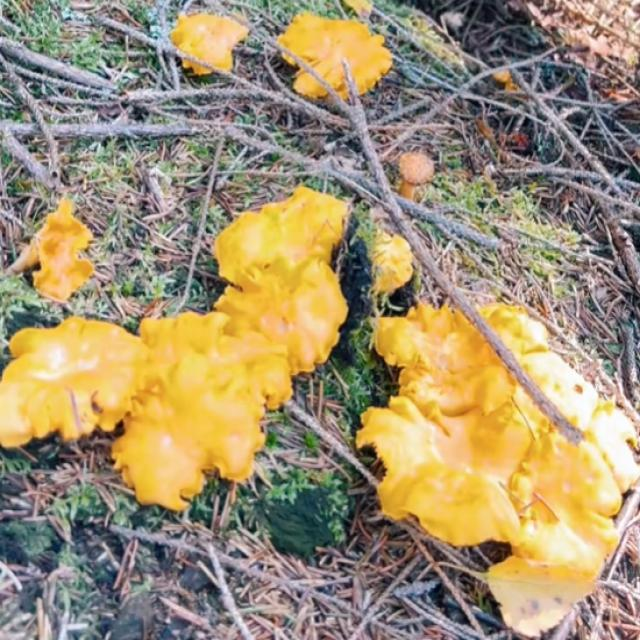chanterelle: (0, 186, 353, 515), (355, 303, 640, 640), (278, 11, 393, 102)
